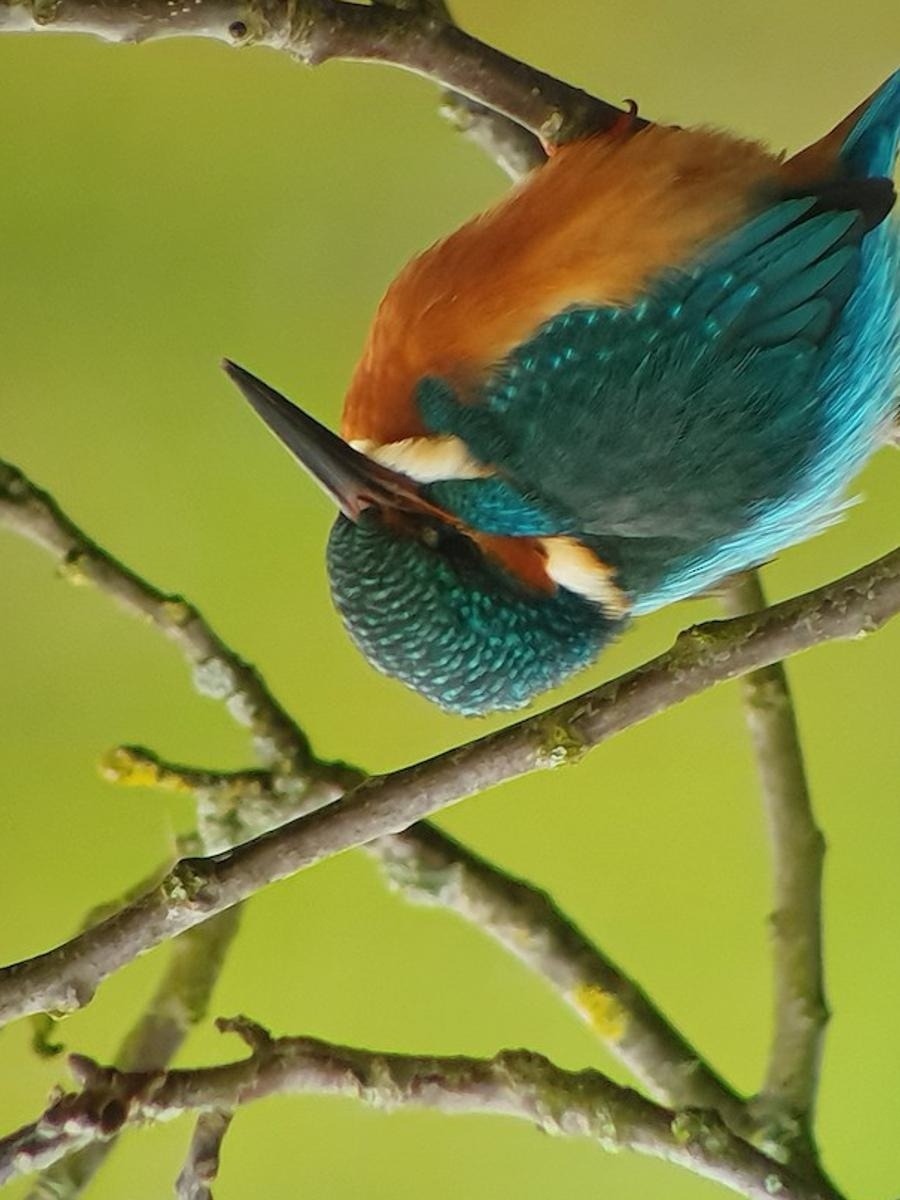kingfisher: (231, 84, 900, 700)
